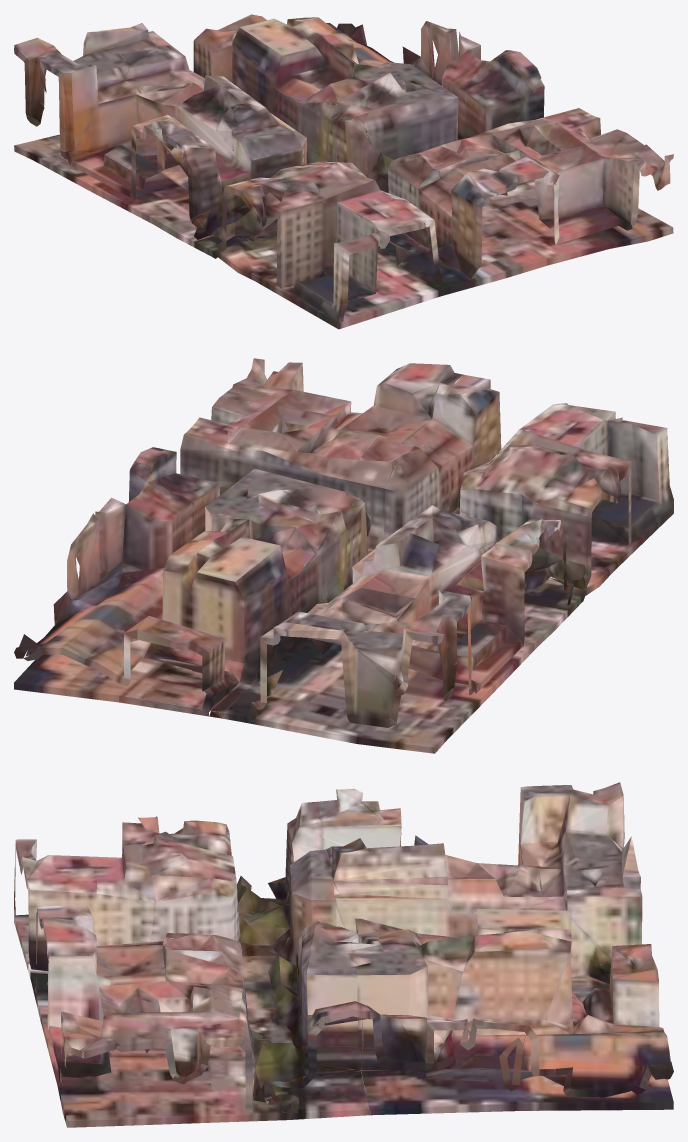
The picture shows the model from 3 angles, top to bottom: view 1: azimuth 30°, elevation 25°; view 2: azimuth 150°, elevation 25°; view 3: azimuth 270°, elevation 25°; orthographic projection. The views are drawn at different scales.
Visible parts, largest first — view 1: Mesh_0; view 2: Mesh_0; view 3: Mesh_0.
Part boxes in pixels (x1,y1,x2,y2): Mesh_0: (14,14,673,329); Mesh_0: (14,358,673,753); Mesh_0: (14,782,673,1127).
Size of the model in its own units: 133 by 38.66 by 165.
1 material, 1 textured.
